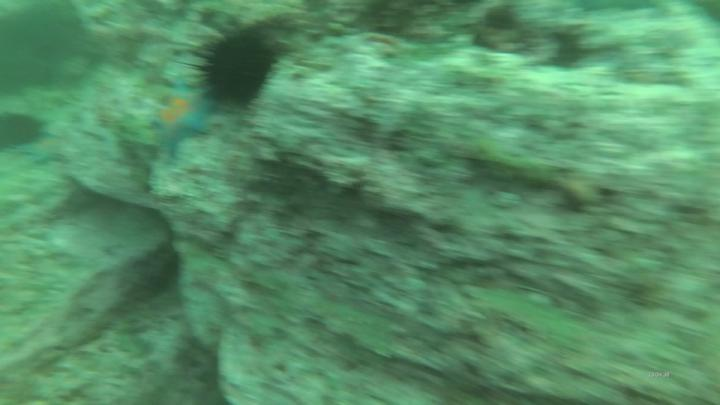echinus: (204, 32, 272, 101)
starfish: (152, 79, 214, 158), (1, 115, 41, 151)
